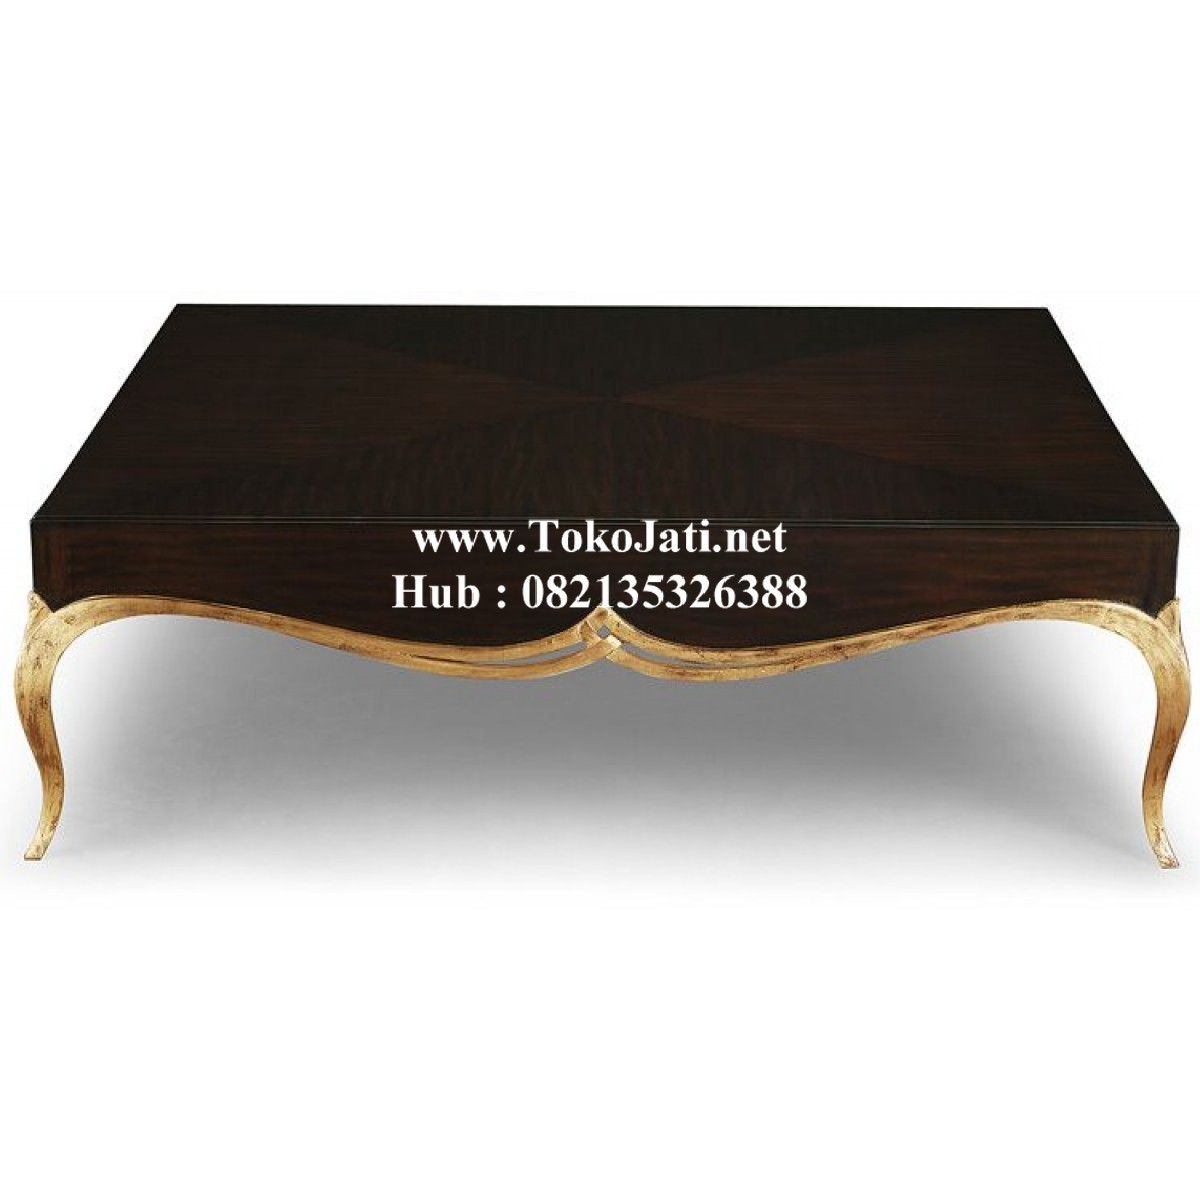Carving Table: (56, 302, 1200, 870)
